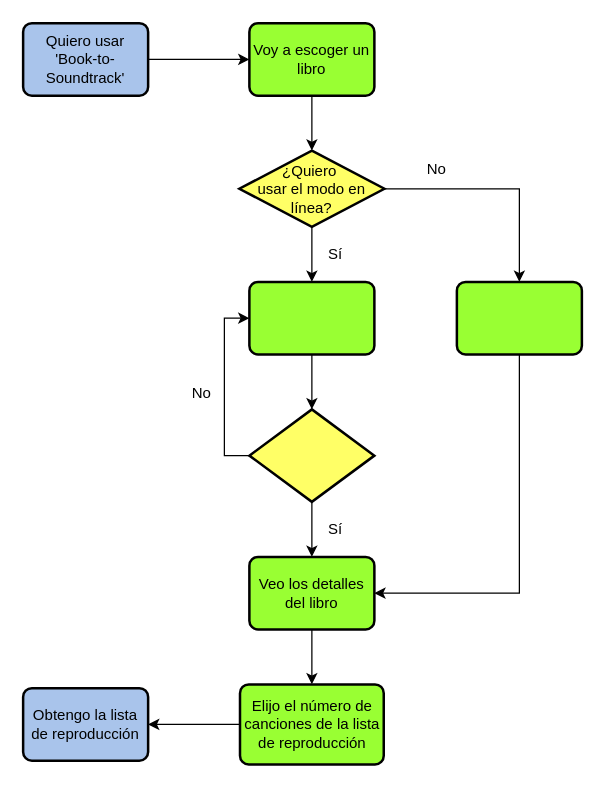
Some shapes in this 604 by 786 pixel diagram are drawn without their labels. Each missing label, with the centre of its shape:
"Elijo el libro a partir de la BBDD" belongs at (518,317).
"Hago una búsqueda del libro" belongs at (311,317).
"¿Es el libro correcto?" belongs at (311,455).
